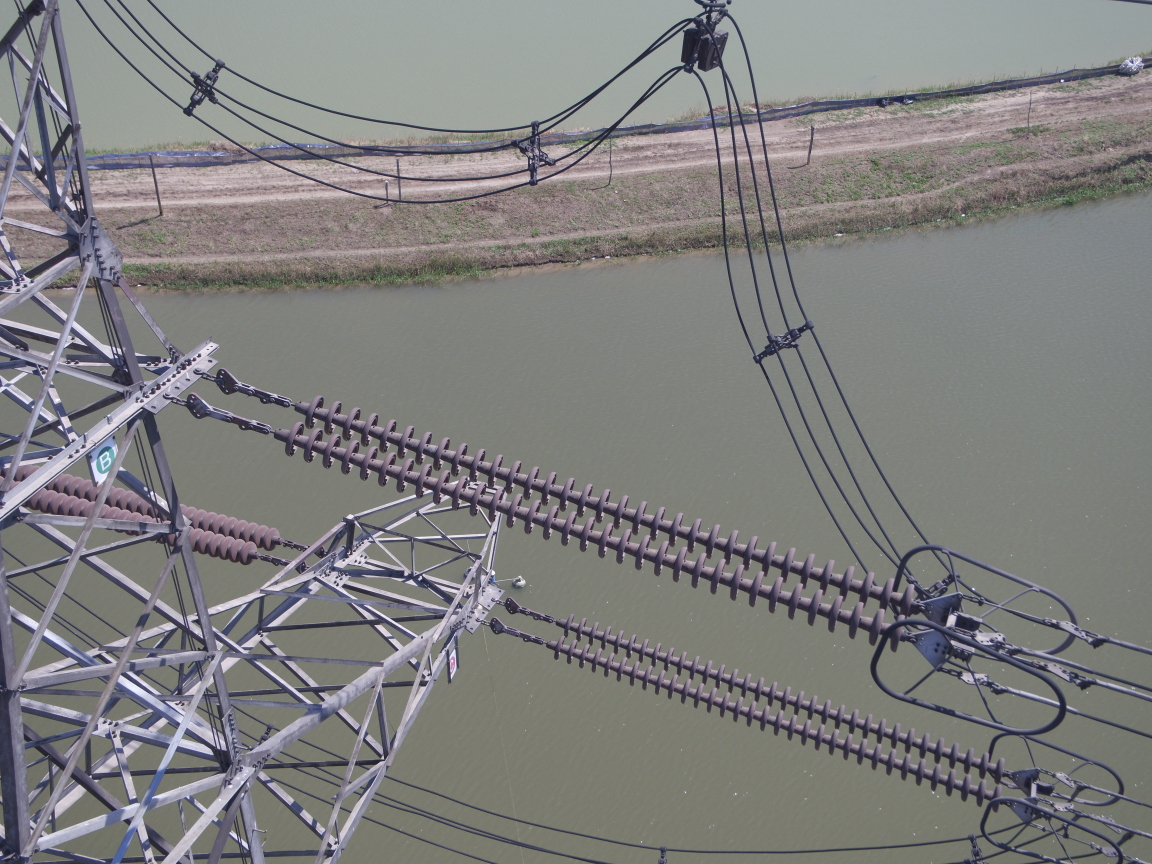insulator: (249, 384, 921, 655), (529, 610, 1017, 815), (21, 460, 294, 566)
